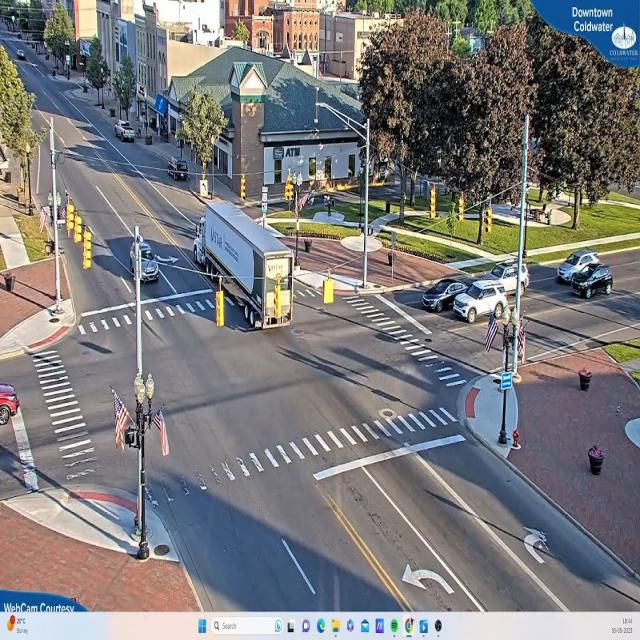car: (452, 284, 512, 326), (421, 279, 477, 312), (476, 264, 532, 296), (556, 250, 604, 284), (129, 233, 160, 284), (572, 266, 615, 300), (1, 382, 21, 422), (117, 122, 137, 144)
truck: (194, 204, 298, 333)
